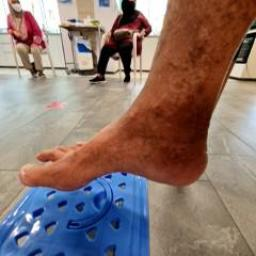Medial View -Right Foot-: (8, 74, 232, 216)
